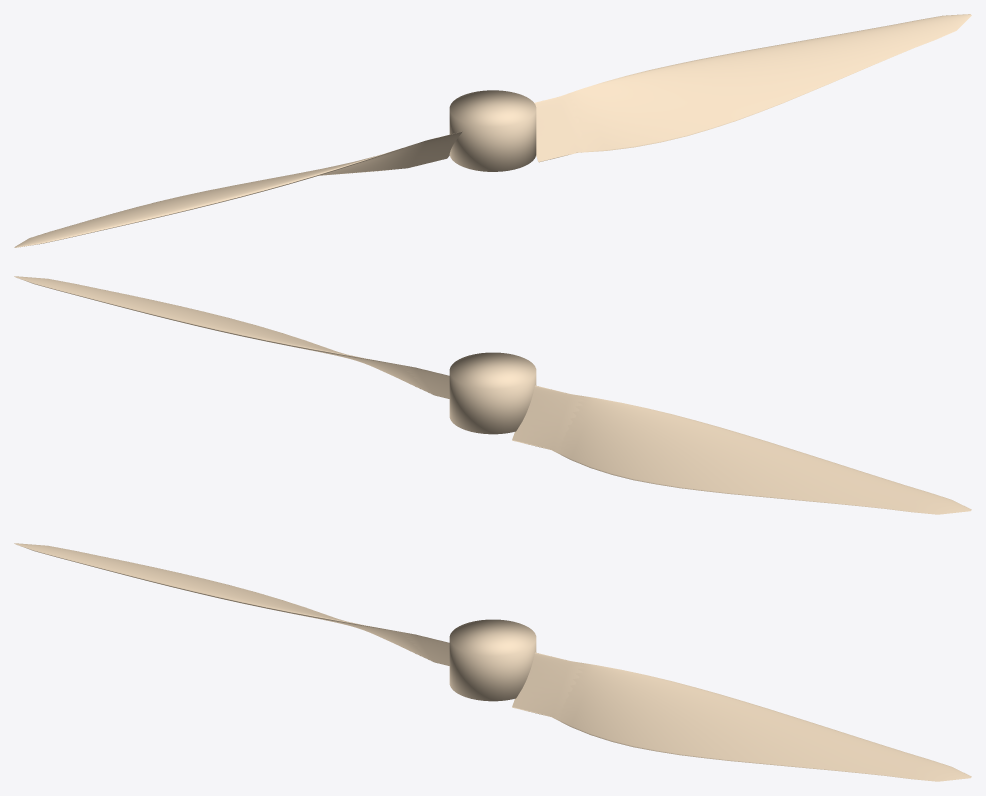
Rendered from prop_left.glb.
3 renders of one model, top to bottom at view 1: azimuth 30°, elevation 25°; view 2: azimuth 150°, elevation 25°; view 3: azimuth 330°, elevation 25°, orthographic.
Visible parts, largest first — view 1: blade_a, hub, blade_b; view 2: blade_b, hub, blade_a; view 3: blade_a, hub, blade_b.
Part boxes in pixels (x1,y1,x2,y2): blade_a: (534,14,971,162); hub: (449,90,536,171); blade_b: (14,131,462,247); blade_b: (512,385,971,514); hub: (449,352,536,434); blade_a: (14,276,449,398); blade_a: (512,652,971,781); hub: (449,619,536,701); blade_b: (14,543,449,665).
Bounding box in the file's own units: 0.3556 × 0.0186 × 0.0371.
